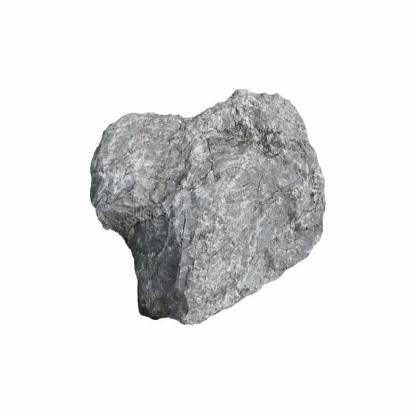Sedimentary_Limestone: (69, 70, 331, 334)
